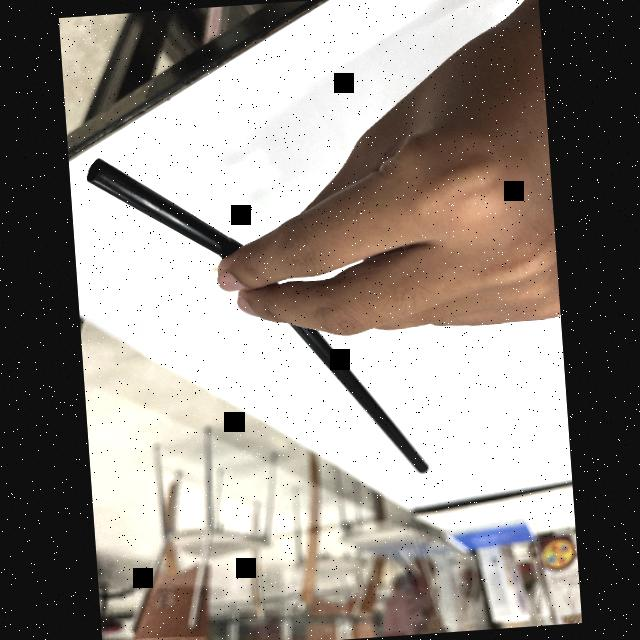straw: (84, 136, 432, 500)
